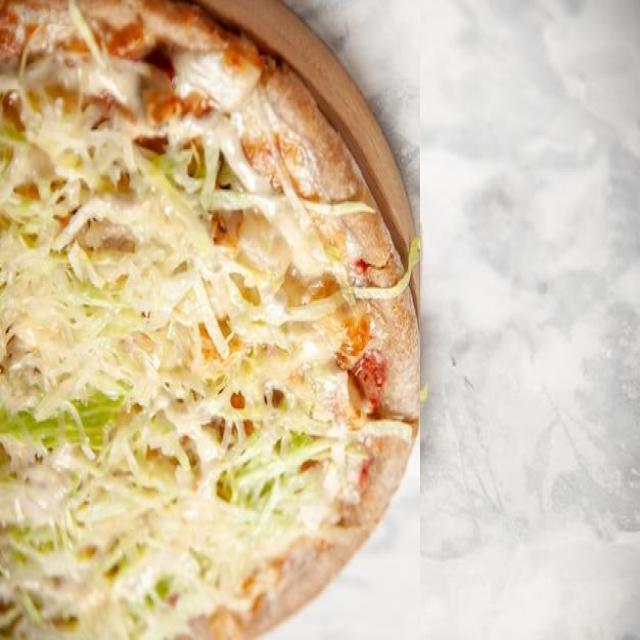pizza: (0, 0, 420, 640)
